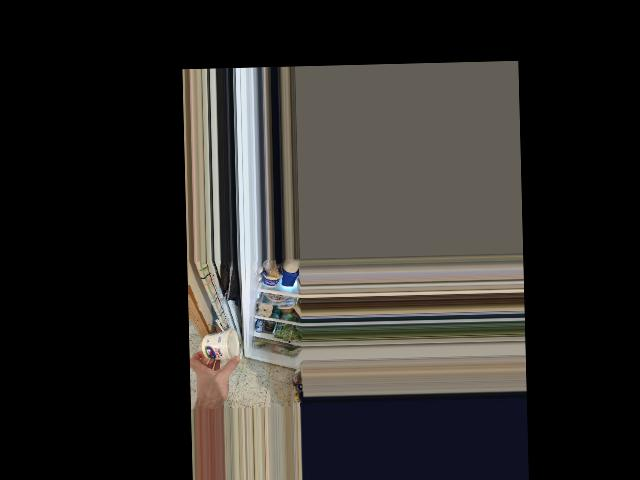cotage: (197, 327, 242, 368)
